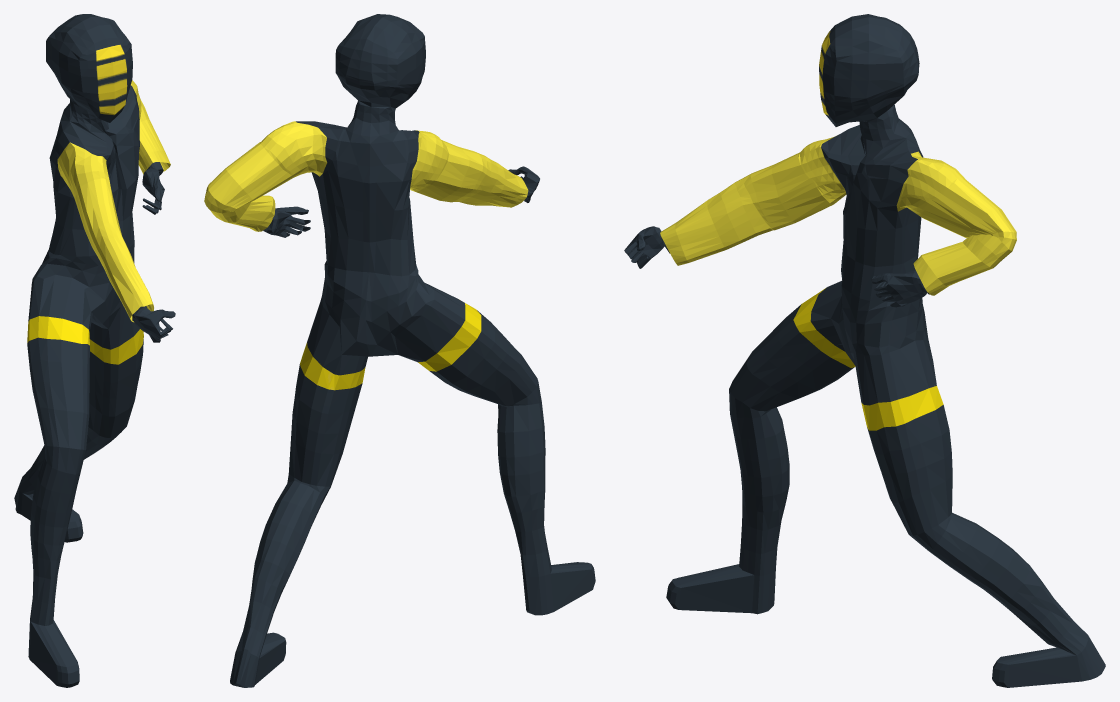
The model's file is Sentry_WL_000014.obj.
3 renders of one model, left to right at view 1: azimuth 30°, elevation 25°; view 2: azimuth 150°, elevation 25°; view 3: azimuth 270°, elevation 25°, orthographic. The views are drawn at different scales.
Visible parts, largest first — view 1: Cube; view 2: Cube; view 3: Cube.
Part boxes in pixels (x1=…): Cube: x1=14, y1=14, x2=175, y2=687; Cube: x1=204, y1=14, x2=595, y2=687; Cube: x1=624, y1=14, x2=1105, y2=687.
Bounding box in the file's own units: 1.48 × 3.6 × 2.43.
